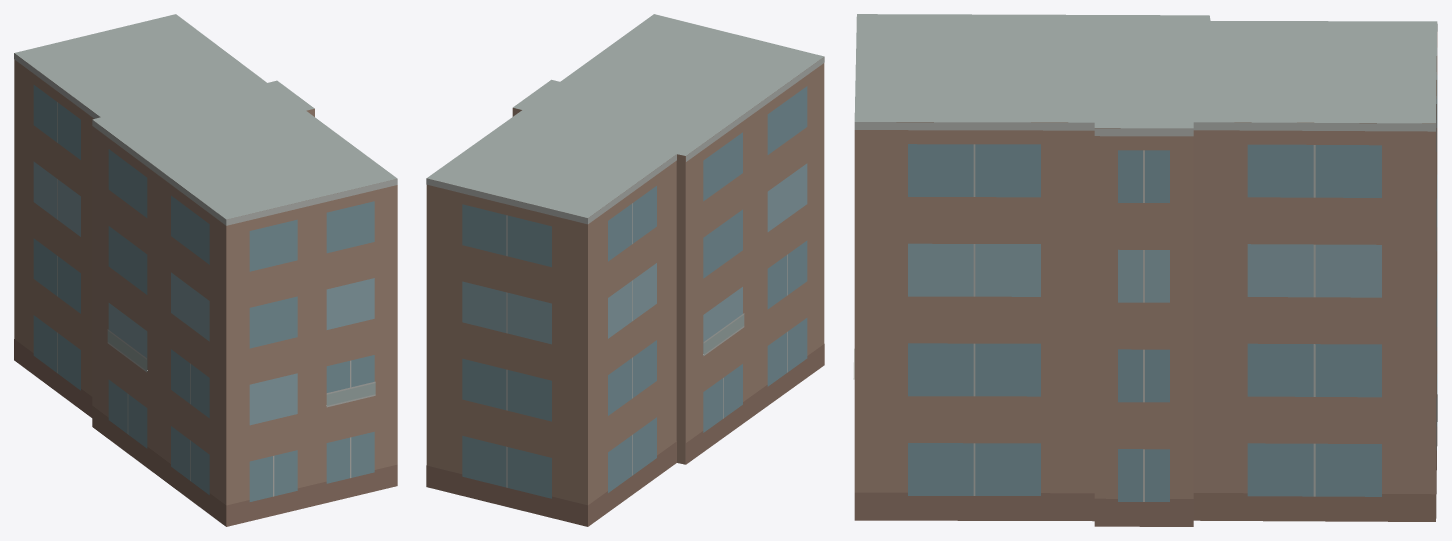
The model's file is survey-upis-32657054.glb.
3 views of the same model, side by side, from view 1: azimuth 30°, elevation 25°; view 2: azimuth 150°, elevation 25°; view 3: azimuth 270°, elevation 25° (orthographic). The views are drawn at different scales.
Visible parts, largest first — view 1: survey-upis-32657054.tmp; view 2: survey-upis-32657054.tmp; view 3: survey-upis-32657054.tmp.
Part boxes in pixels (left/top/right/bottom): survey-upis-32657054.tmp: left=14, top=14, right=397, bottom=526; survey-upis-32657054.tmp: left=426, top=14, right=824, bottom=526; survey-upis-32657054.tmp: left=853, top=14, right=1437, bottom=526.
Bounding box in the file's own units: 7.39 × 12 × 15.94.
